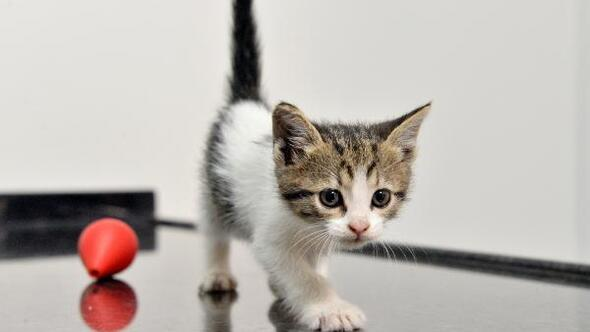cat: (247, 104, 434, 262)
